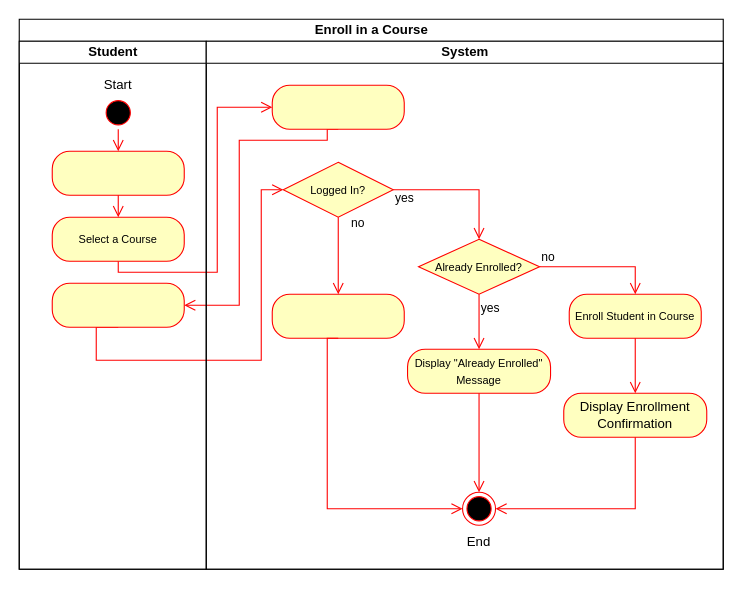
Image size: 743x589. Some labels were removed from this diagram. Each missing label, with the centre of its shape:
Browse Courses: point 117,172
Click "Enroll": point 117,304
Display Course Details: point 337,106
Show Login Screen: point 337,315
